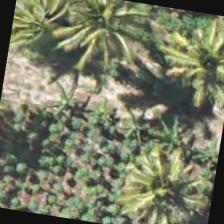Kelapa_Sawit: (112, 134, 216, 223), (144, 12, 223, 115), (58, 0, 158, 71), (8, 0, 84, 63)
